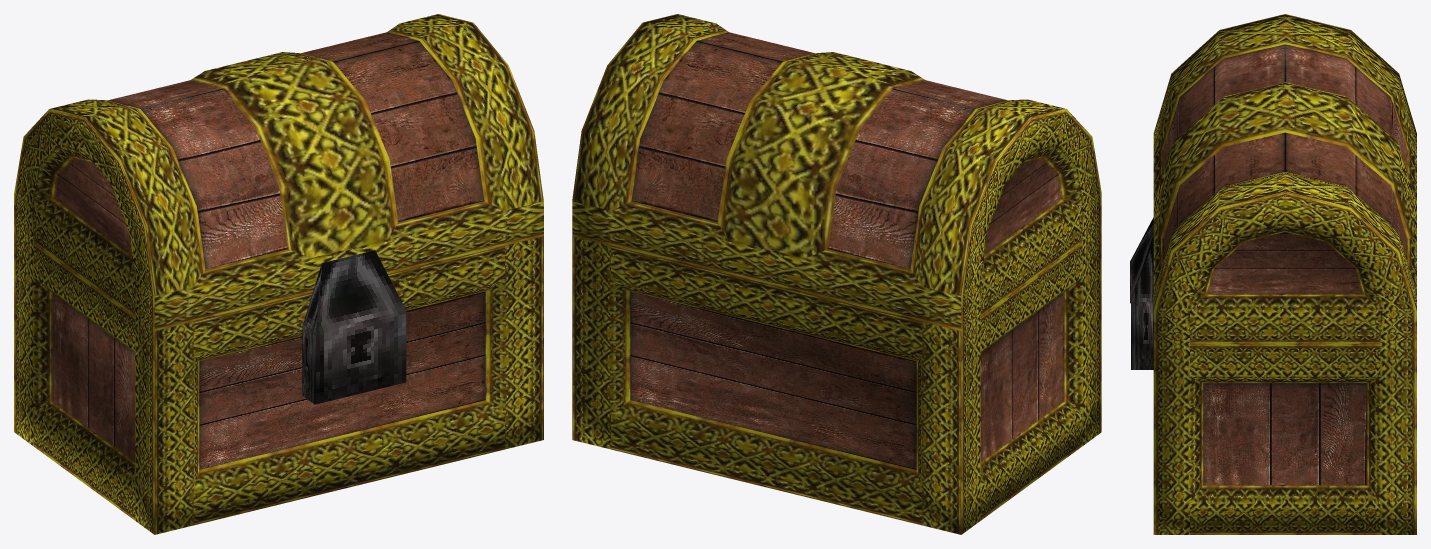
File: ITMI_GOLDCHEST.glb
3 renders of one model, left to right at view 1: azimuth 30°, elevation 25°; view 2: azimuth 150°, elevation 25°; view 3: azimuth 270°, elevation 25°, orthographic. The views are drawn at different scales.
Parts seen in each view (by area): view 1: Mesh; view 2: Mesh; view 3: Mesh.
Boxes of the visible parts, x1,y1,x2,y2 form: Mesh: [14, 14, 543, 534]; Mesh: [572, 14, 1101, 534]; Mesh: [1130, 14, 1416, 534].
Size of the model in its own units: 0.4 by 0.3594 by 0.2724.
Materials: 3 (3 with a texture image).
